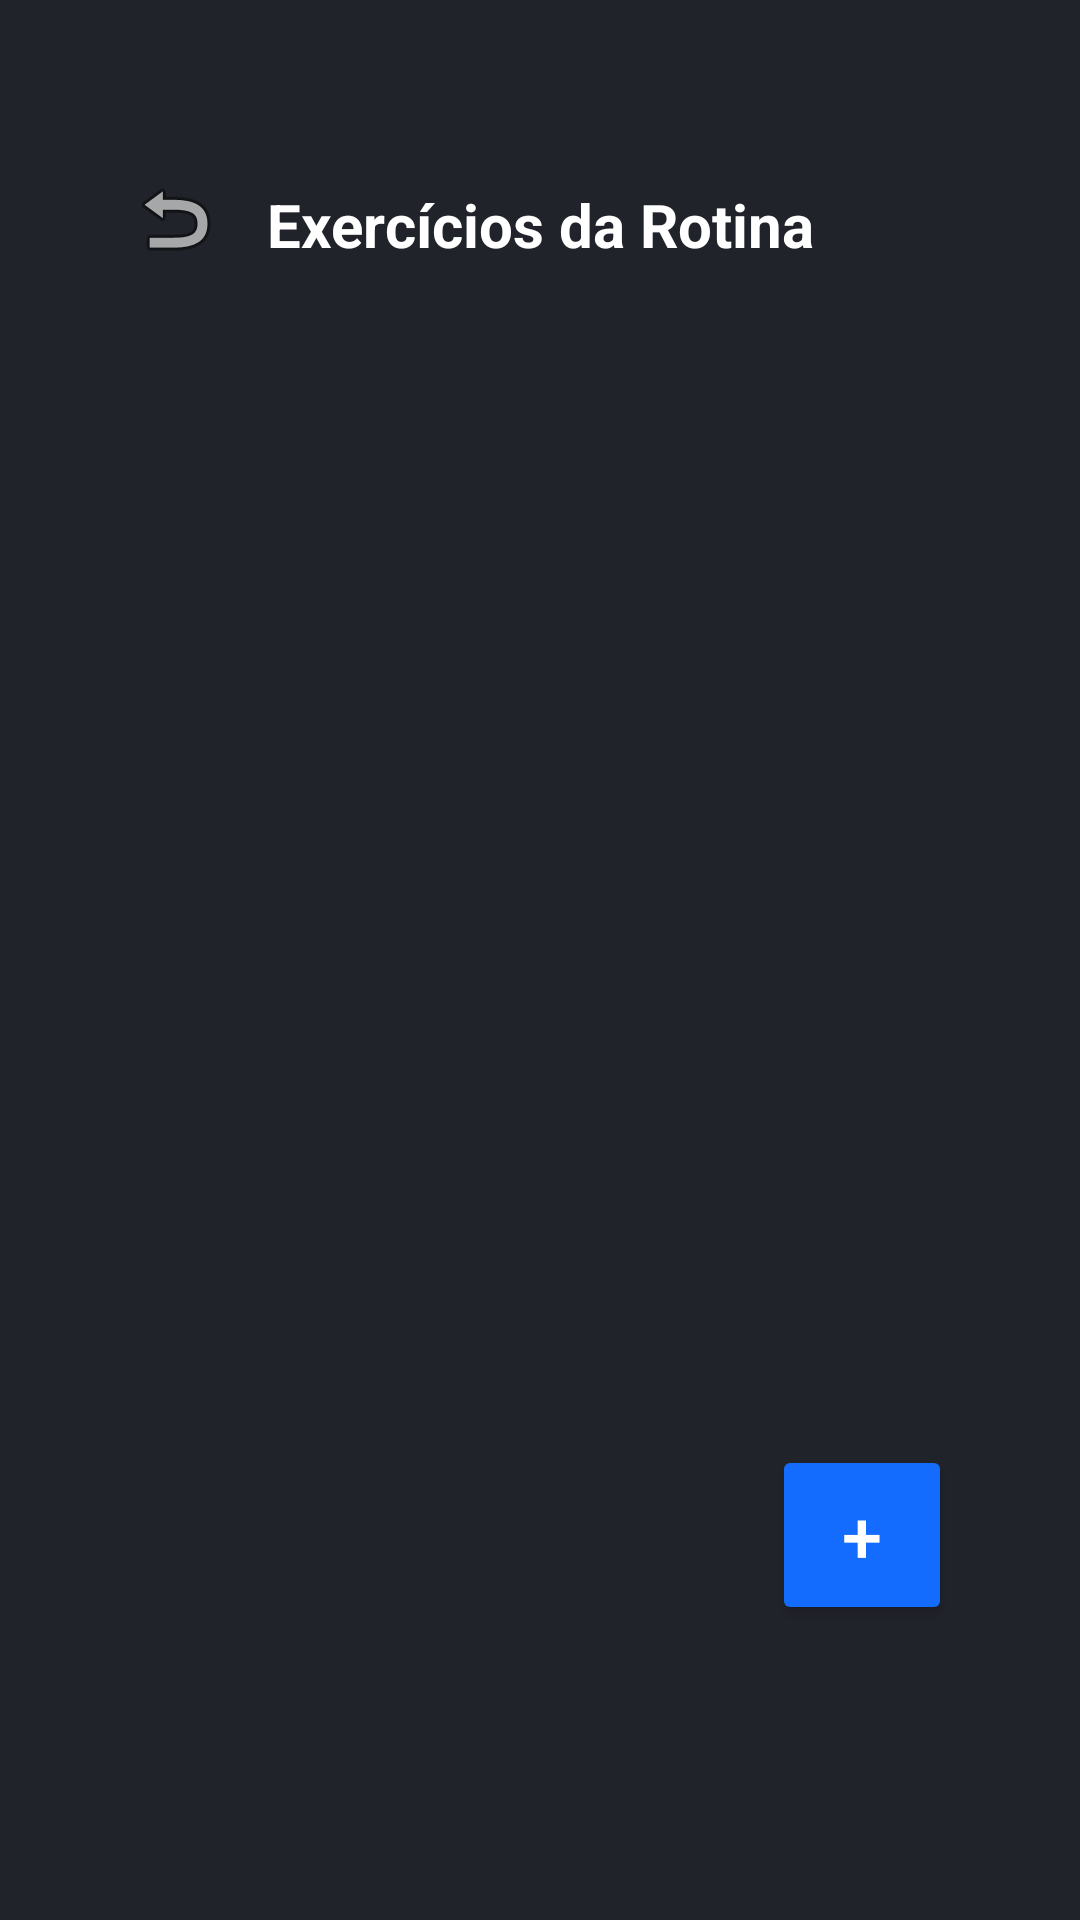

Point at icon controls on the screen. Image size 1080px×1920px, points as point (x, y).
Voltar: point (176, 219)
